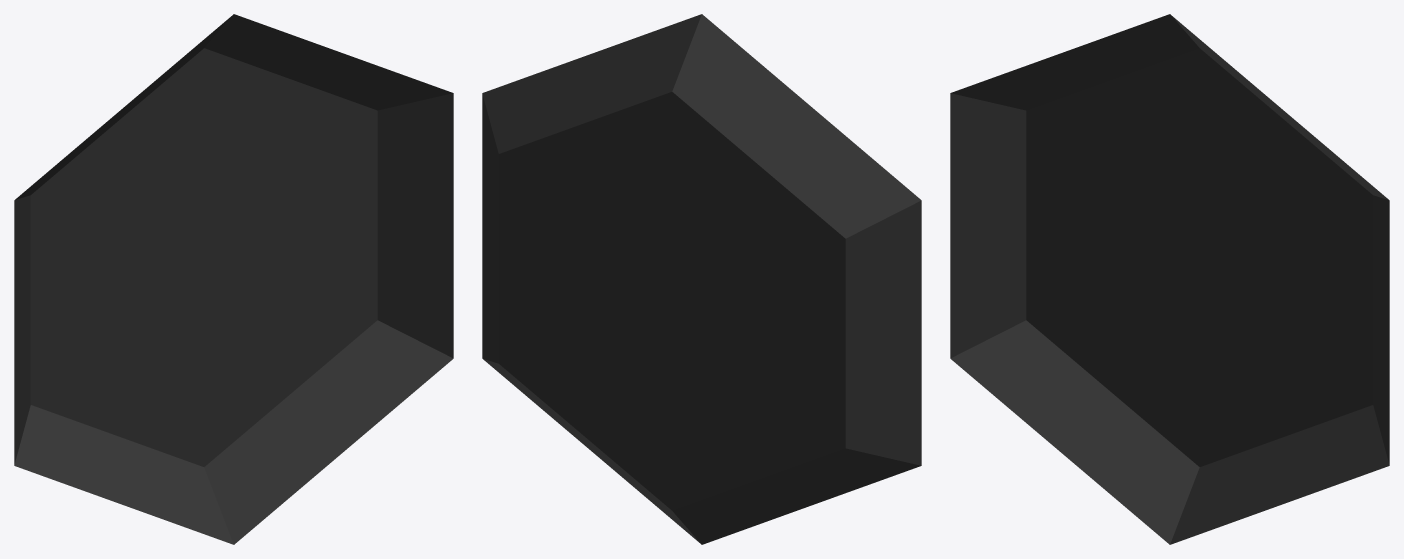
Rendered from button-background.glb.
3 renders of one model, left to right at view 1: azimuth 30°, elevation 25°; view 2: azimuth 150°, elevation 25°; view 3: azimuth 330°, elevation 25°, orthographic.
Parts seen in each view (by area): view 1: base-plate; view 2: base-plate; view 3: base-plate.
Boxes of the visible parts, <box> form: base-plate: <box>14,14,453,544</box>; base-plate: <box>482,14,921,544</box>; base-plate: <box>950,14,1389,544</box>.
Size of the model in its own units: 1.73 by 2 by 0.2031.
1 material, 1 textured.
